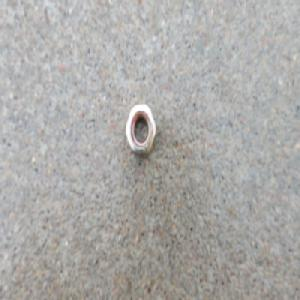Nut: (124, 102, 157, 160)
